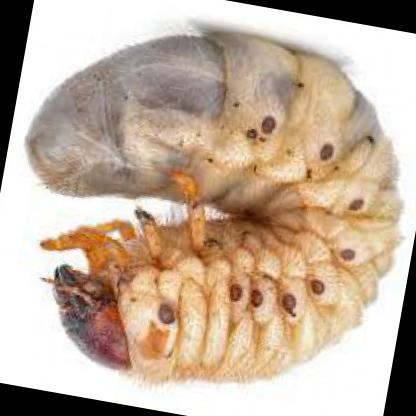root grubs: (27, 36, 404, 379)
